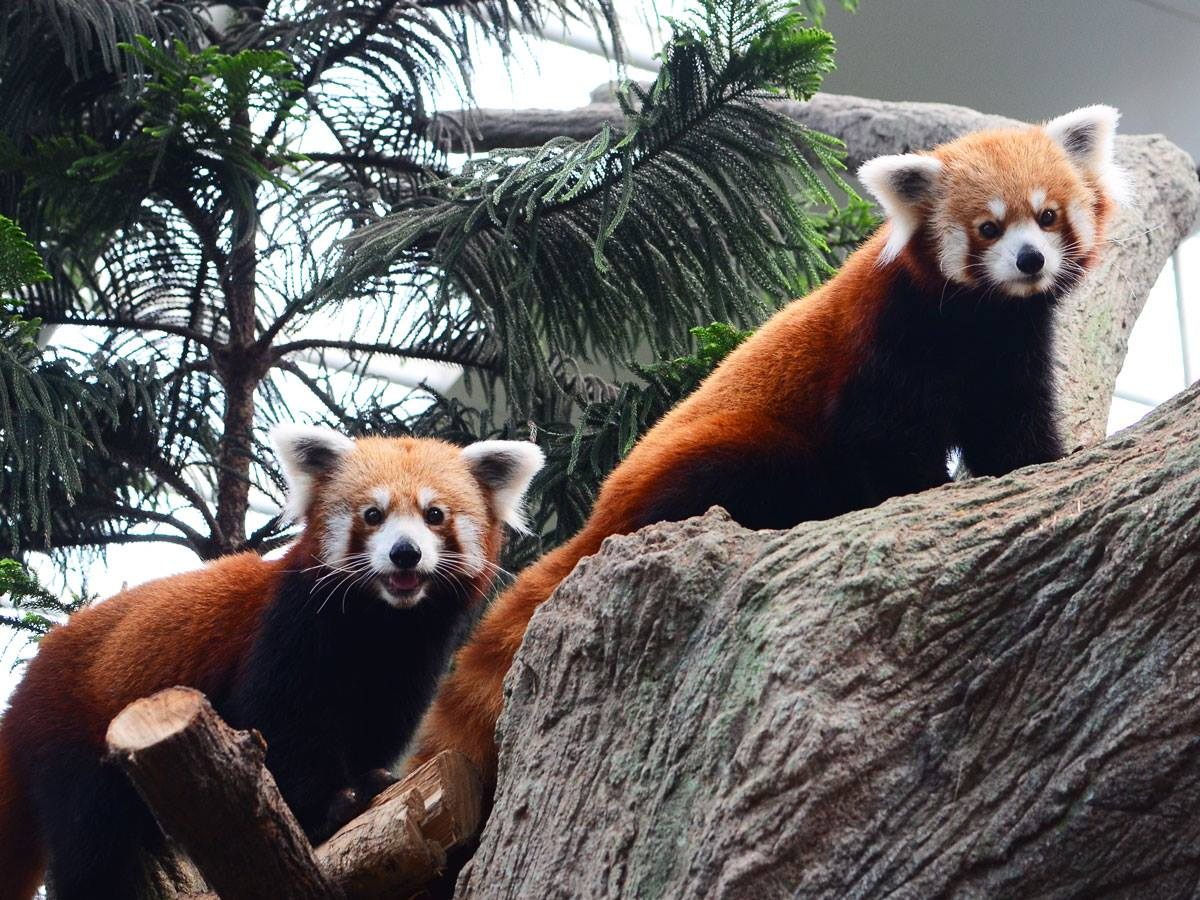Red panda: (270, 418, 553, 611), (856, 103, 1126, 302)
